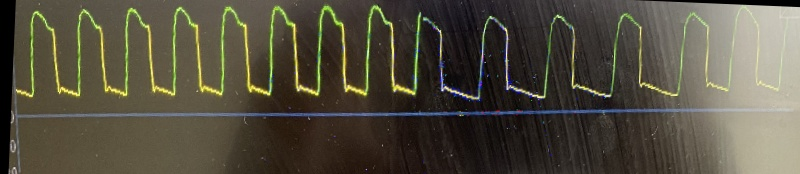normal_pressure: (11, 0, 778, 110)
